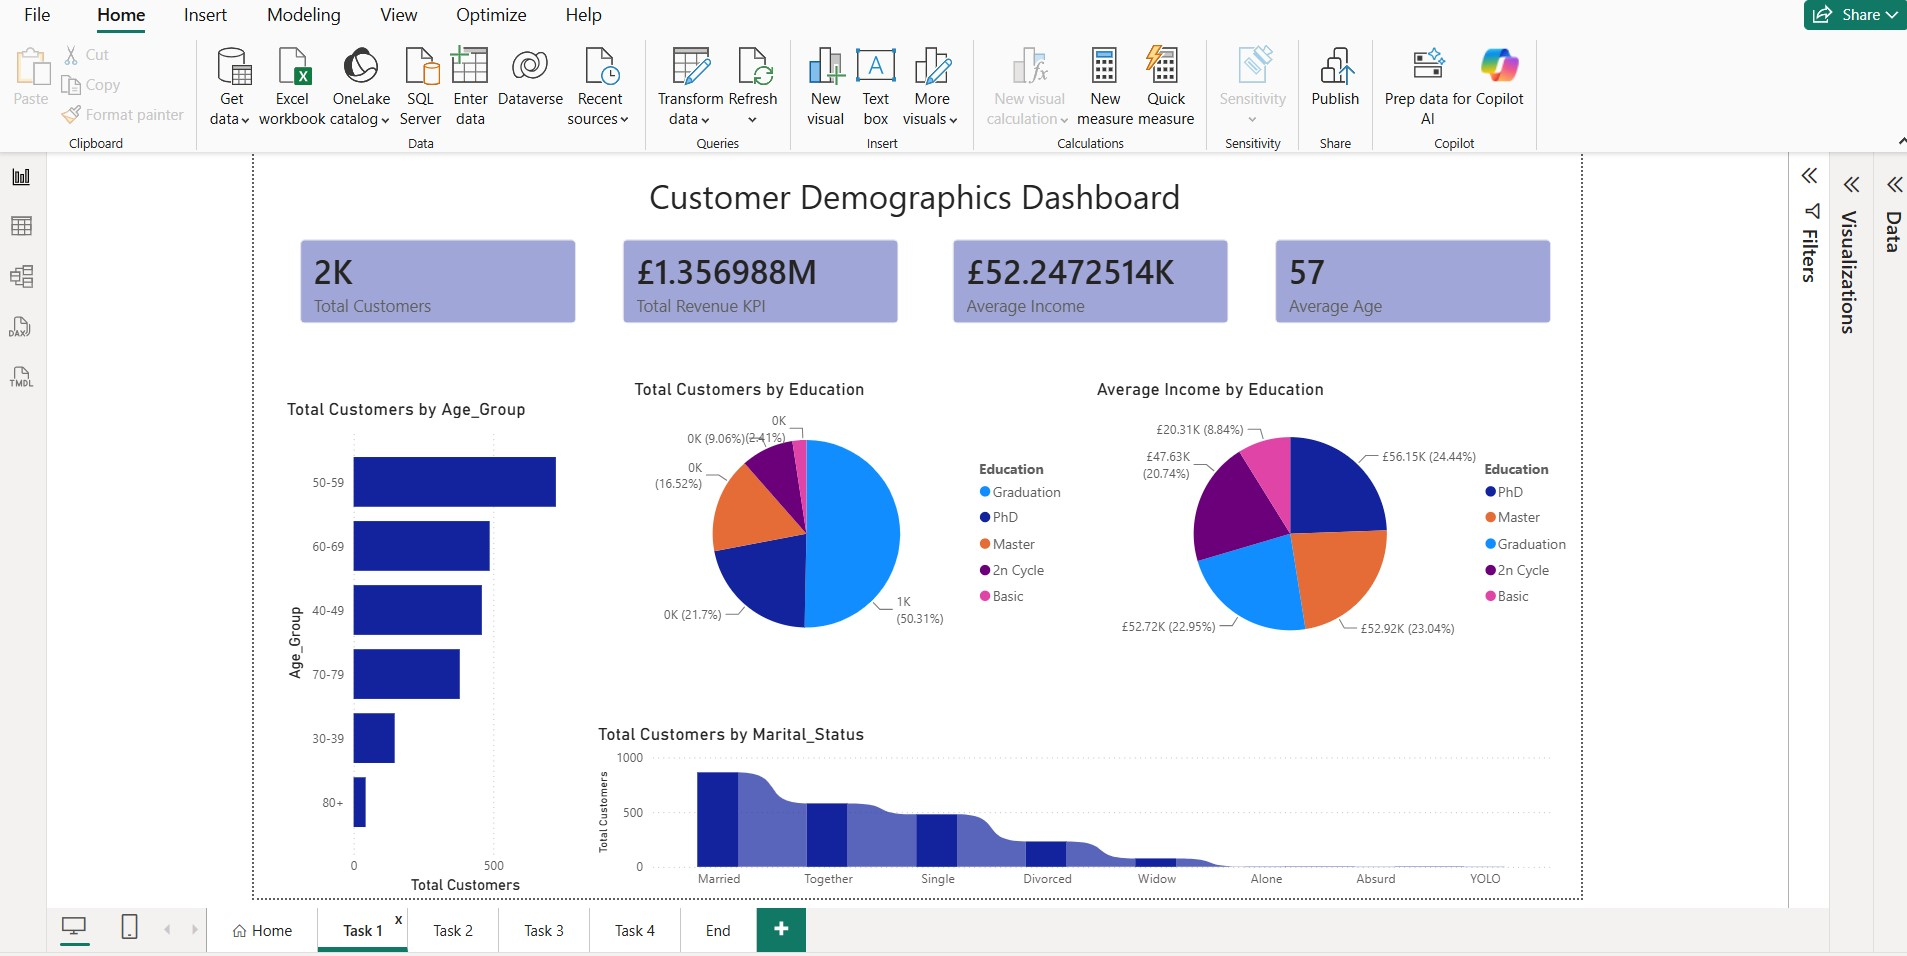

This screenshot's page, from the dashboard's own definition file:
{"tool":"powerbi","page":{"name":"Task 1","canvas":[1280,720],"ordinal":1},"visuals":[{"type":"cardVisual","fields":{"Data":["marketing_campaign.Total_Customers"]},"box":[27.4,67.2,300.5,115.3],"z":0},{"type":"cardVisual","fields":{"Data":["marketing_campaign.Average_Income"]},"box":[657.3,67.2,300.5,115.3],"z":1000},{"type":"cardVisual","fields":{"Data":["marketing_campaign.Average_Age"]},"box":[968.8,67.2,300.5,115.3],"z":2000},{"type":"cardVisual","fields":{"Data":["marketing_campaign.Total_Revenue_Measure"]},"box":[338.9,67.2,300.5,115.3],"z":3000},{"type":"pieChart","fields":{"Category":["marketing_campaign.Education"],"Y":["marketing_campaign.Total_Customers"]},"box":[362.3,218.2,430.9,281.3],"z":4000},{"type":"pieChart","fields":{"Category":["marketing_campaign.Education"],"Y":["marketing_campaign.Average_Income"]},"box":[808.2,218.2,472,281.3],"z":5000},{"type":"clusteredBarChart","fields":{"Category":["marketing_campaign.Age_Group"],"Y":["marketing_campaign.Total_Customers"]},"box":[26.1,237.4,300.5,483],"z":6000},{"type":"ribbonChart","fields":{"Category":["marketing_campaign.Marital_Status"],"Y":["marketing_campaign.Total_Customers"]},"box":[326.6,551.6,930.4,168.8],"z":7000},{"type":"textbox","box":[376,15.1,562.6,63.1],"z":8000}]}

Visuals, with their boxes on the page's 1280x720 design canvas (x1, y1, x2, y2). These are canvas units, not pixel positions in the 1907x956 screenshot, which may show the page scaled, cropped or inside an application window:
cardVisual - marketing_campaign.Total_Customers: l=27, t=67, r=328, b=182
cardVisual - marketing_campaign.Average_Income: l=657, t=67, r=958, b=182
cardVisual - marketing_campaign.Average_Age: l=969, t=67, r=1269, b=182
cardVisual - marketing_campaign.Total_Revenue_Measure: l=339, t=67, r=639, b=182
pieChart - marketing_campaign.Education x marketing_campaign.Total_Customers: l=362, t=218, r=793, b=500
pieChart - marketing_campaign.Education x marketing_campaign.Average_Income: l=808, t=218, r=1280, b=500
clusteredBarChart - marketing_campaign.Age_Group x marketing_campaign.Total_Customers: l=26, t=237, r=327, b=720
ribbonChart - marketing_campaign.Marital_Status x marketing_campaign.Total_Customers: l=327, t=552, r=1257, b=720
textbox: l=376, t=15, r=939, b=78
